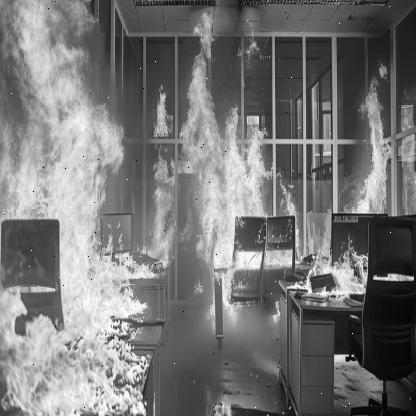fire: (0, 3, 397, 416)
